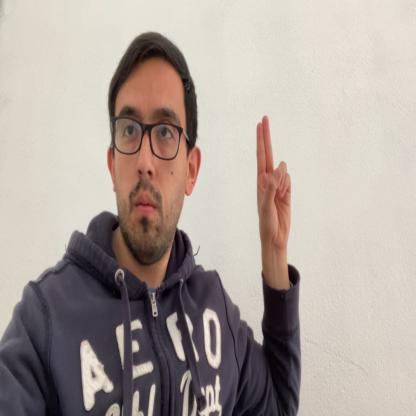U: (257, 117, 290, 253)
